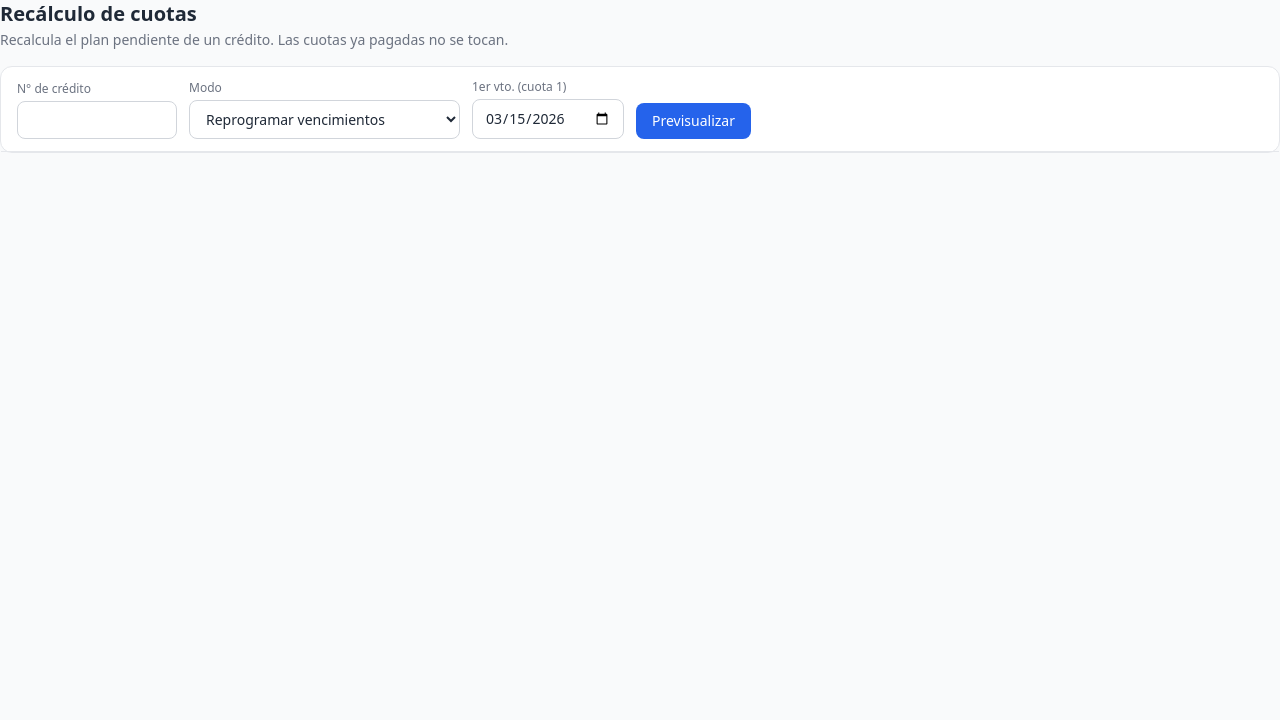
Scenario: Recálculo de cuotas › si el backend rechaza el recálculo lo muestra
This screenshot has width=1280, height=720.
Type "900" into the field labelled "N° de crédito" at (97, 120), box [17,101,177,139]
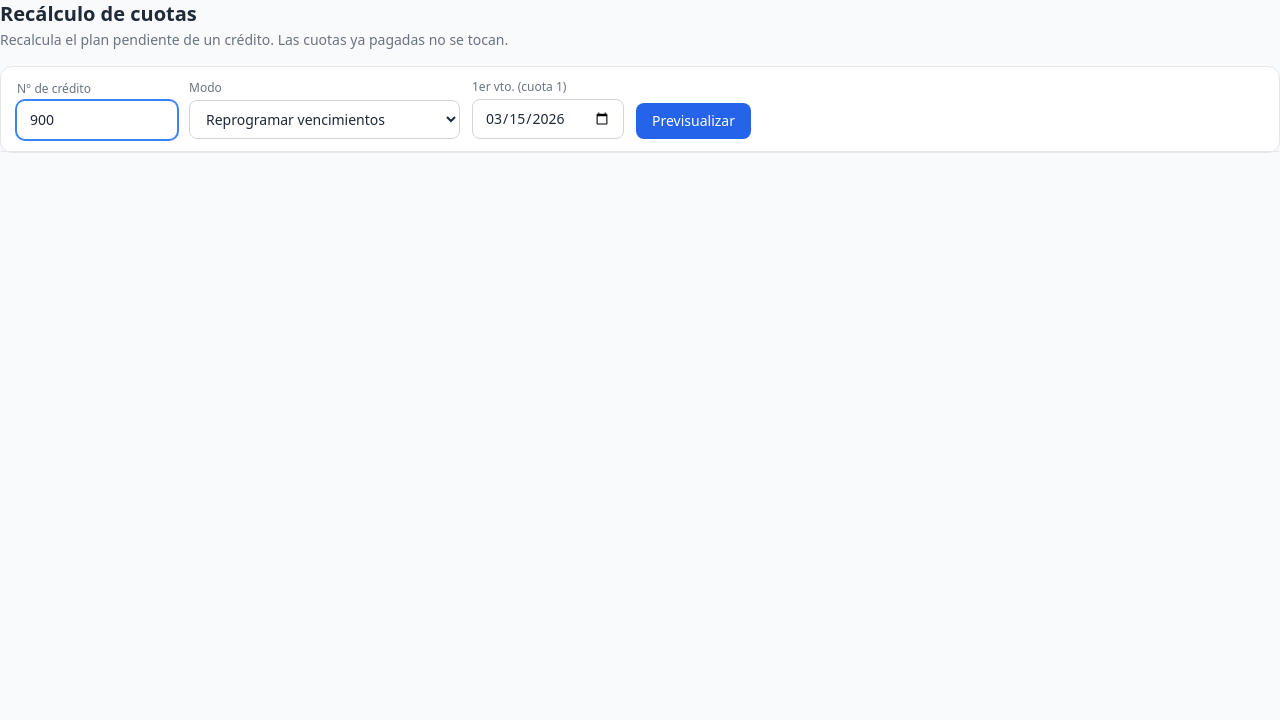
Click the button "Previsualizar" at (694, 121), box [636,103,751,139]
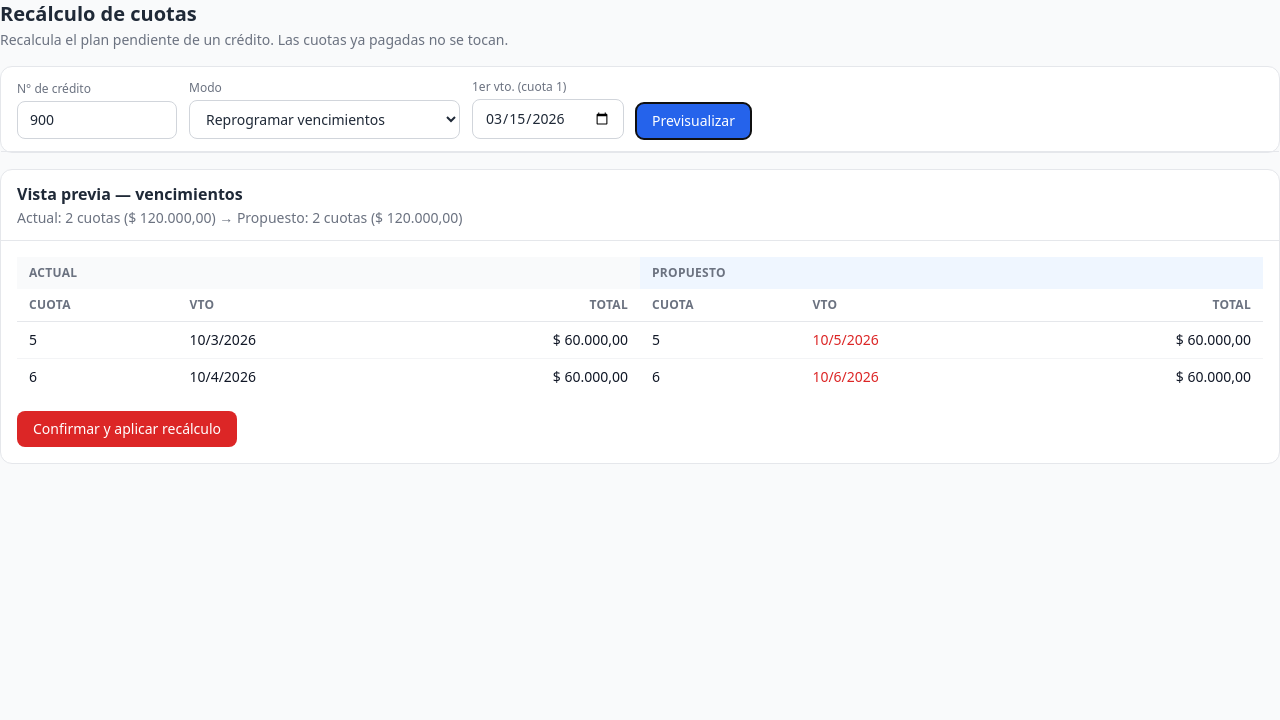
Click the button "Confirmar y aplicar recálculo" at (127, 429), box [17,411,237,447]
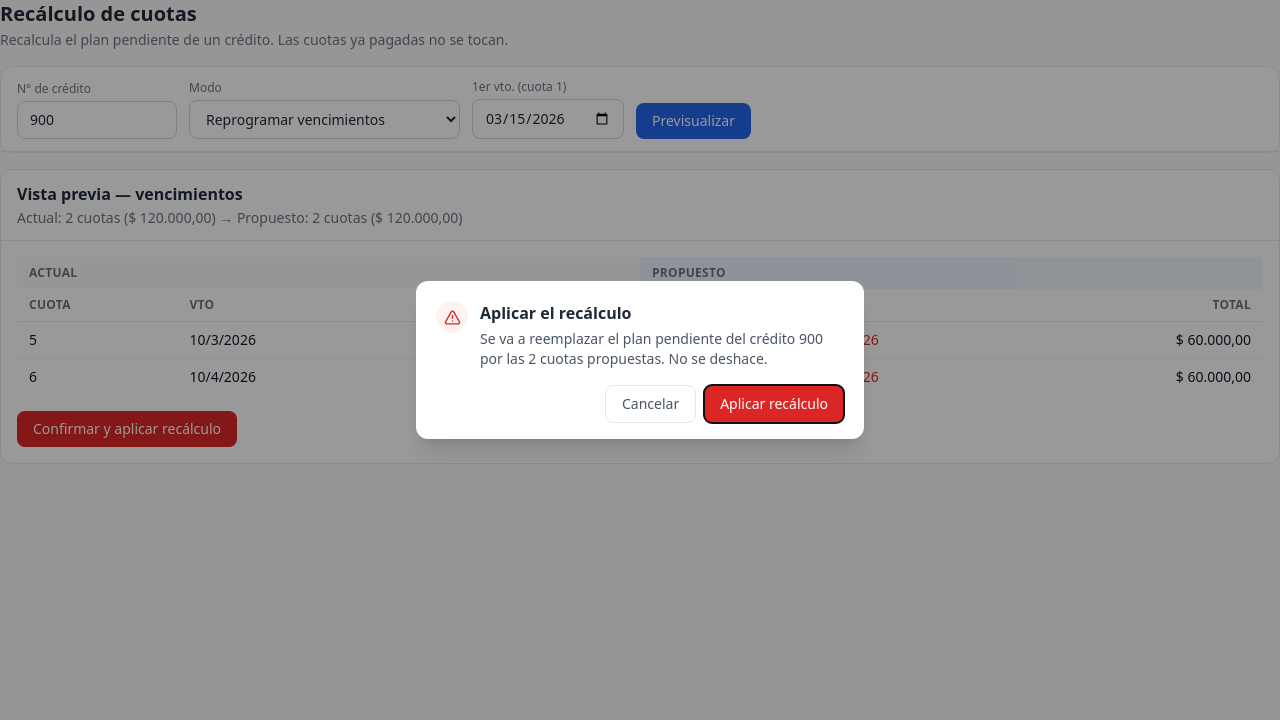
Click the button "Aplicar recálculo" at (774, 404), box [704,385,844,423]
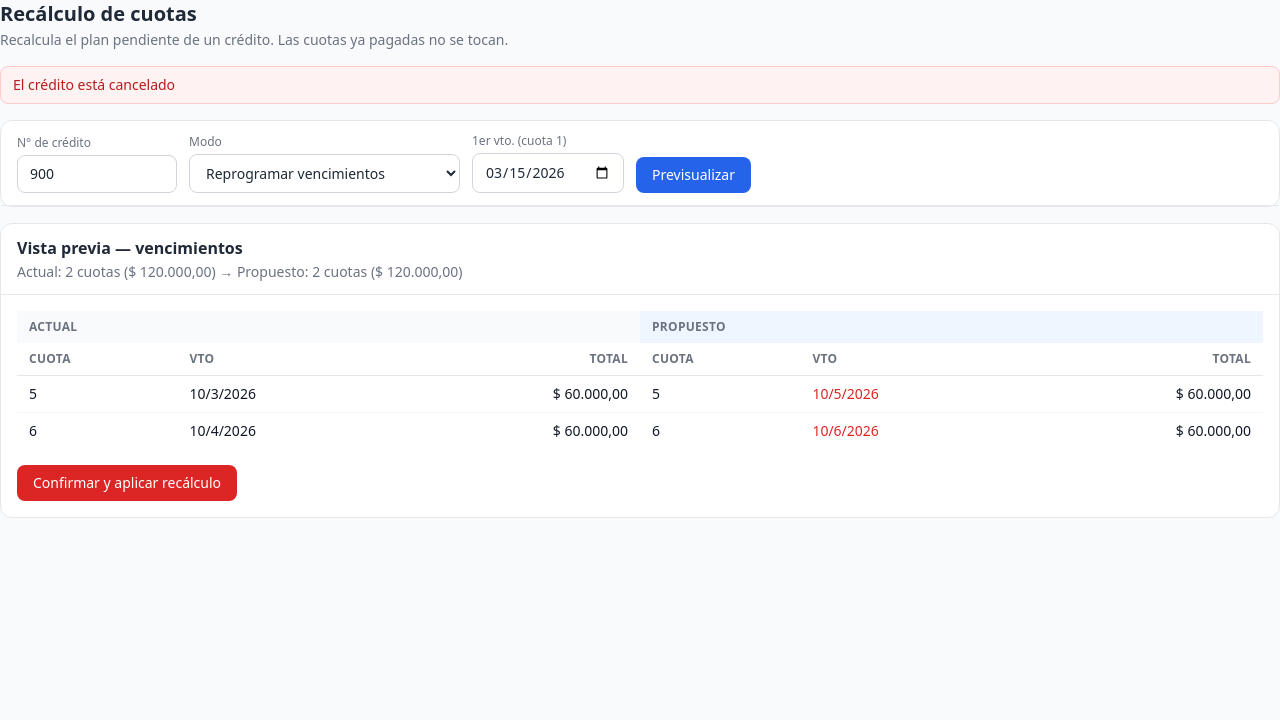
expect the text "El crédito está cancelado" is shown: met, box [0,66,1279,104]
